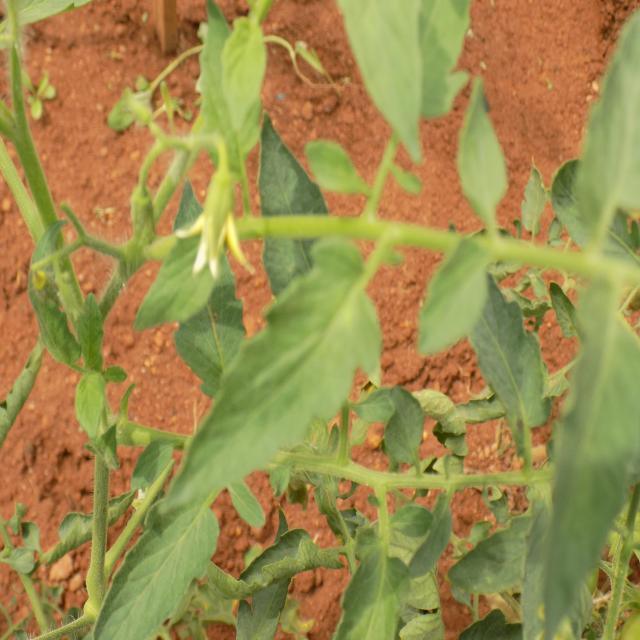tomato_healthy: (150, 234, 384, 515)
